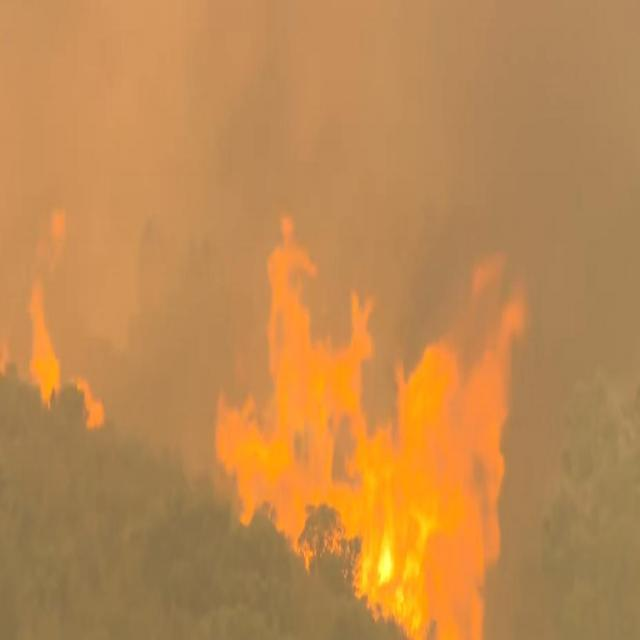Fire: (208, 201, 526, 637), (26, 270, 106, 434)
